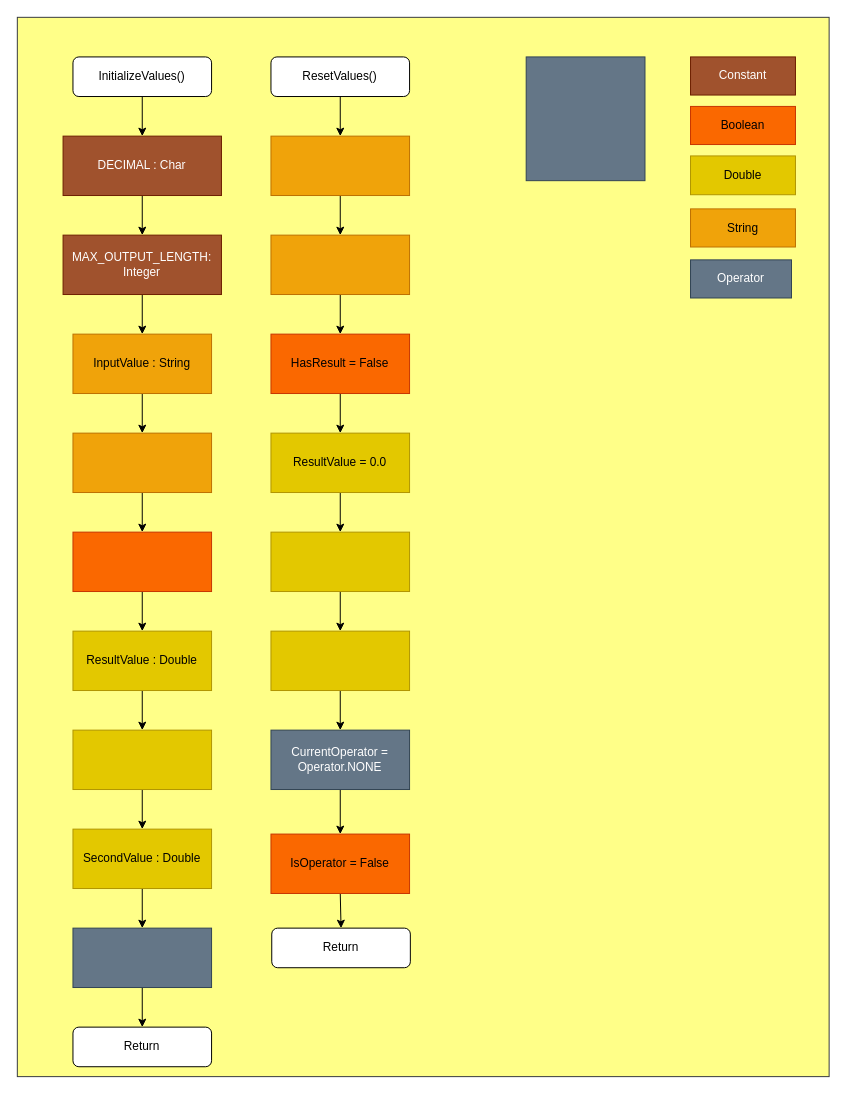
This 846x1094 diagram has some shape labels left out. Here are the shapes that lost their labels. From the top down, the centre of each, then its label:
the point at 585,118: Operator + PLUS + MINUS + MULTIPLY + DIVIDE + NONE
the point at 340,165: InputValue = Empty
the point at 340,264: OutputValue = "0"
the point at 142,462: OutputValue : String
the point at 142,561: HasResult : Boolean
the point at 340,561: FirstValue = 0.0
the point at 340,660: SecondValue = 0.0
the point at 142,759: FirstValue : Double
the point at 142,957: CurrentOperator : Operator
